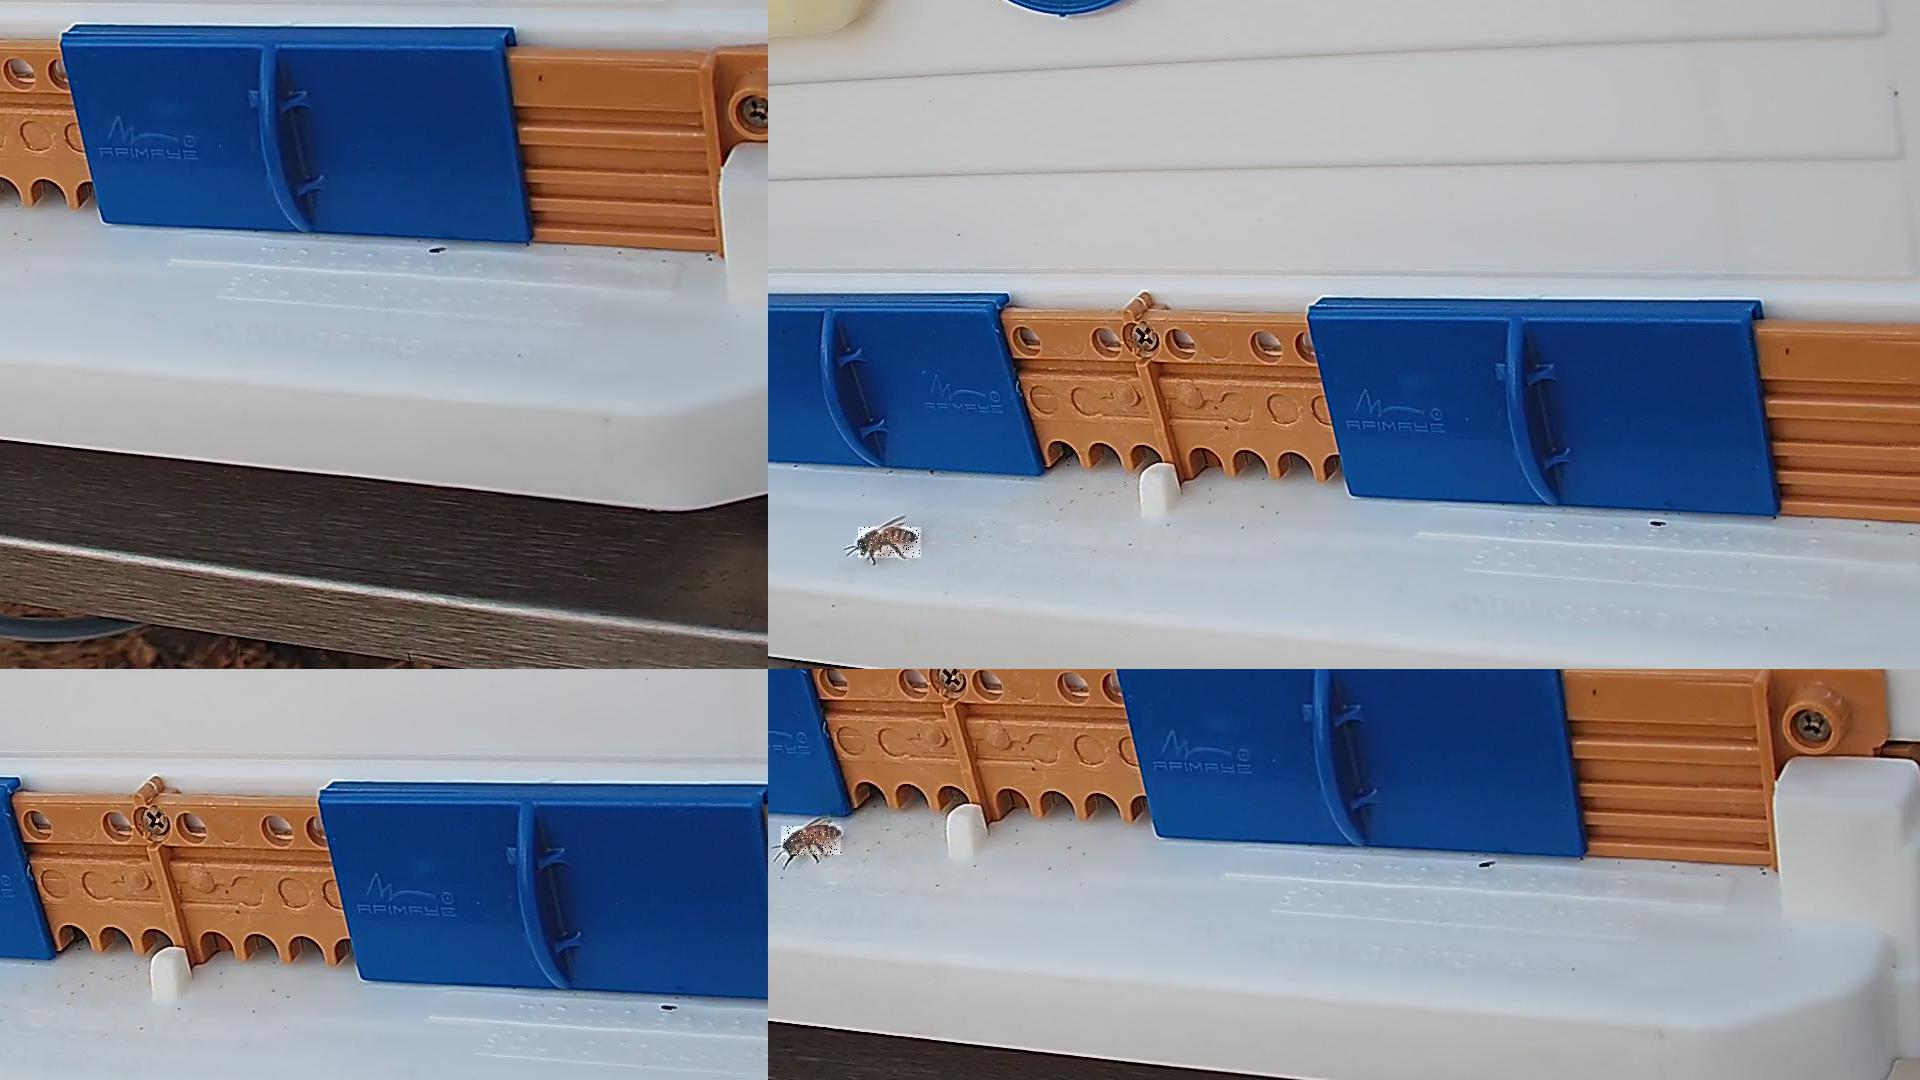bee: (858, 527, 922, 559), (781, 825, 843, 856)
